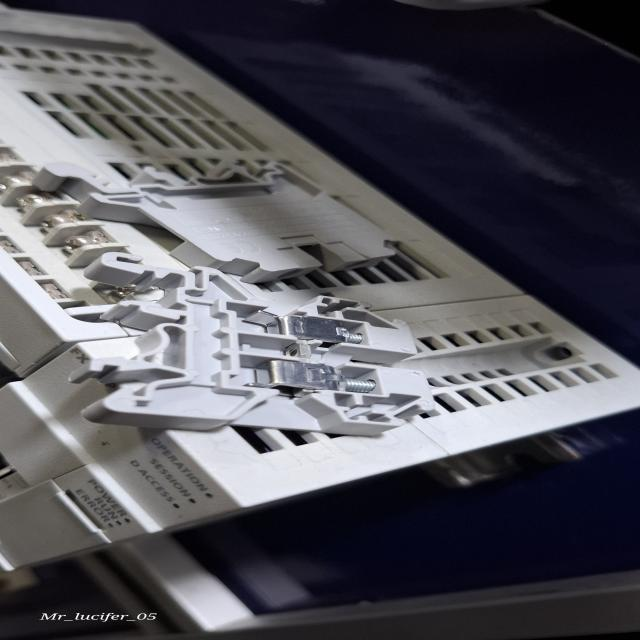Inverted: (31, 136, 494, 292)
Pass: (77, 252, 510, 445)
